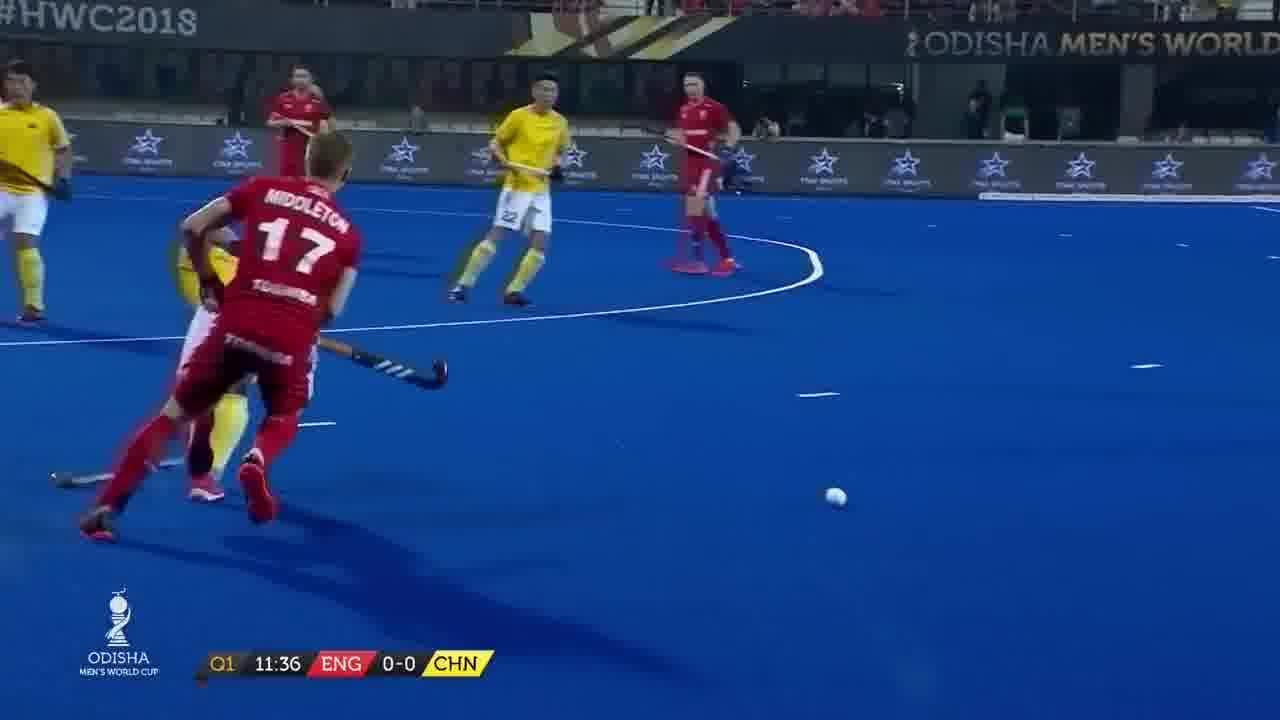ball: (820, 482, 852, 514)
